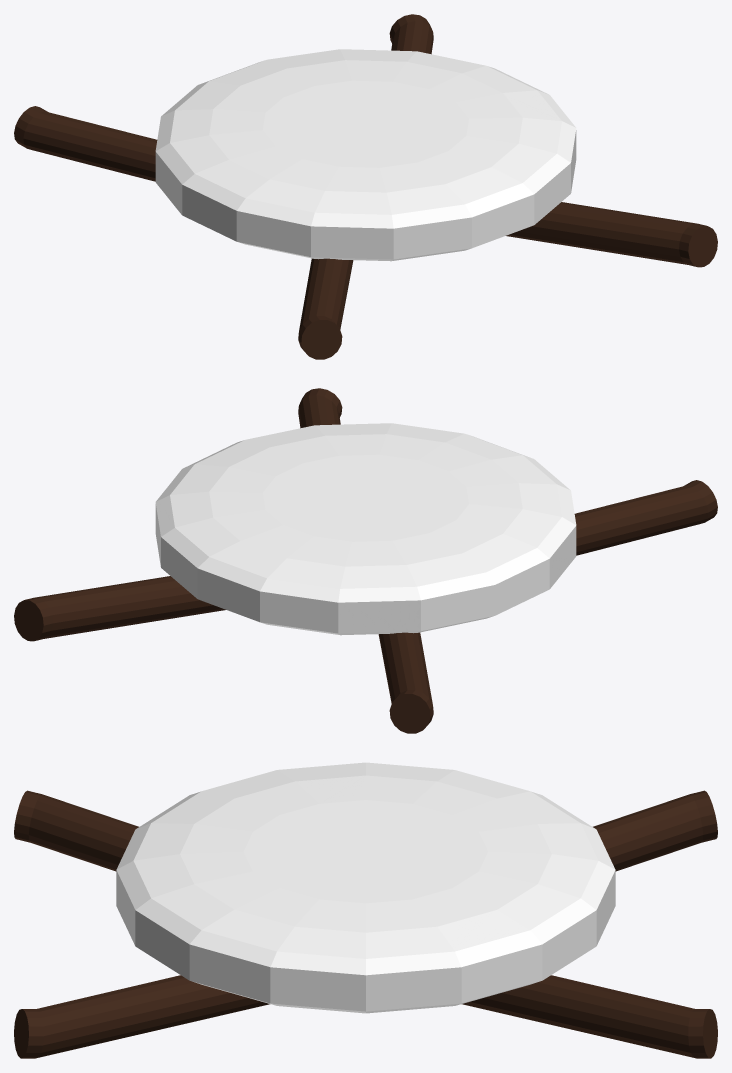
The model's file is stool_broken.fbx.
3 renders of one model, top to bottom at view 1: azimuth 30°, elevation 25°; view 2: azimuth 150°, elevation 25°; view 3: azimuth 270°, elevation 25°, orthographic. The views are drawn at different scales.
Visible parts, largest first — view 1: Cylinder, Cylinder.001; view 2: Cylinder, Cylinder.001; view 3: Cylinder, Cylinder.001.
Boxes of the visible parts, bbox=[...] form: Cylinder: bbox=[155, 49, 576, 261]; Cylinder.001: bbox=[14, 14, 717, 359]; Cylinder: bbox=[155, 423, 576, 635]; Cylinder.001: bbox=[14, 388, 717, 733]; Cylinder: bbox=[116, 762, 615, 1013]; Cylinder.001: bbox=[14, 790, 717, 1058].
Size of the model in its own units: 227 by 51.05 by 282.
